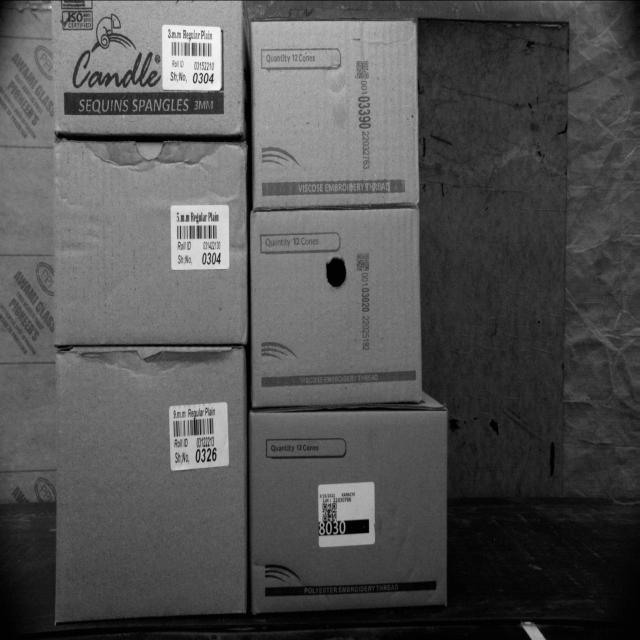box: (53, 350, 247, 620), (248, 407, 451, 615), (53, 141, 249, 347), (249, 209, 423, 411), (252, 22, 419, 210), (54, 0, 246, 132)
